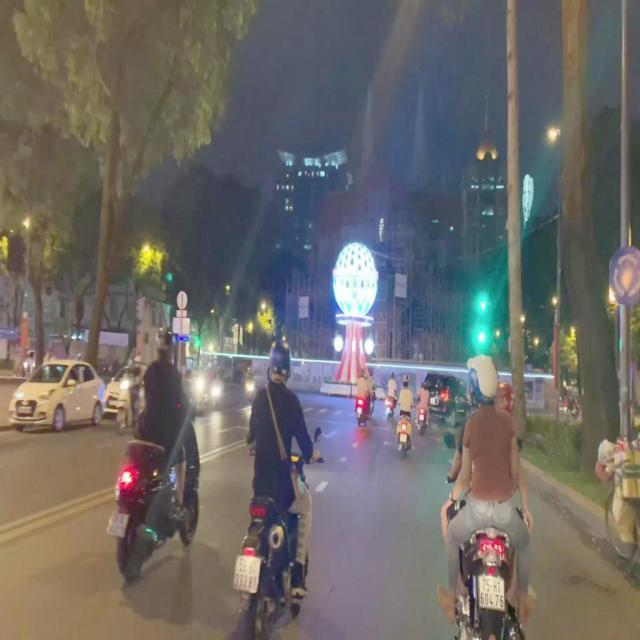303-noi-giao-nhau-chay-theo-vong-xuyen: (604, 247, 640, 310)
